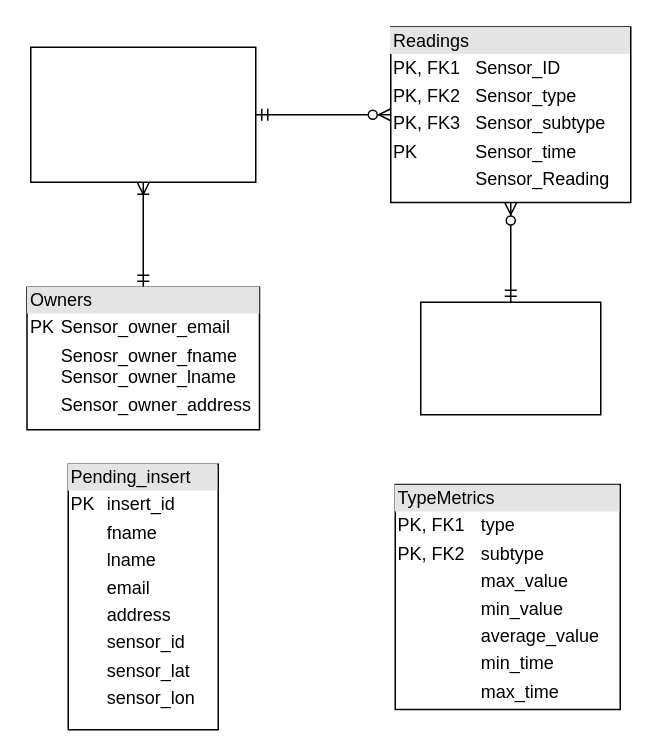
The diagram is 657 pixels wide and 756 high, and some of its shapes have lost their labels. Here are the shapes that lost their labels. From the top down, the centre of each, then its label:
point 142,114: Sensors PK Sensor_ID FK1 Sensor_owner_email Sensor_lon Sensor_lat
point 510,358: Types PK Sensor_type Sensor_unit Sensor_subtype
